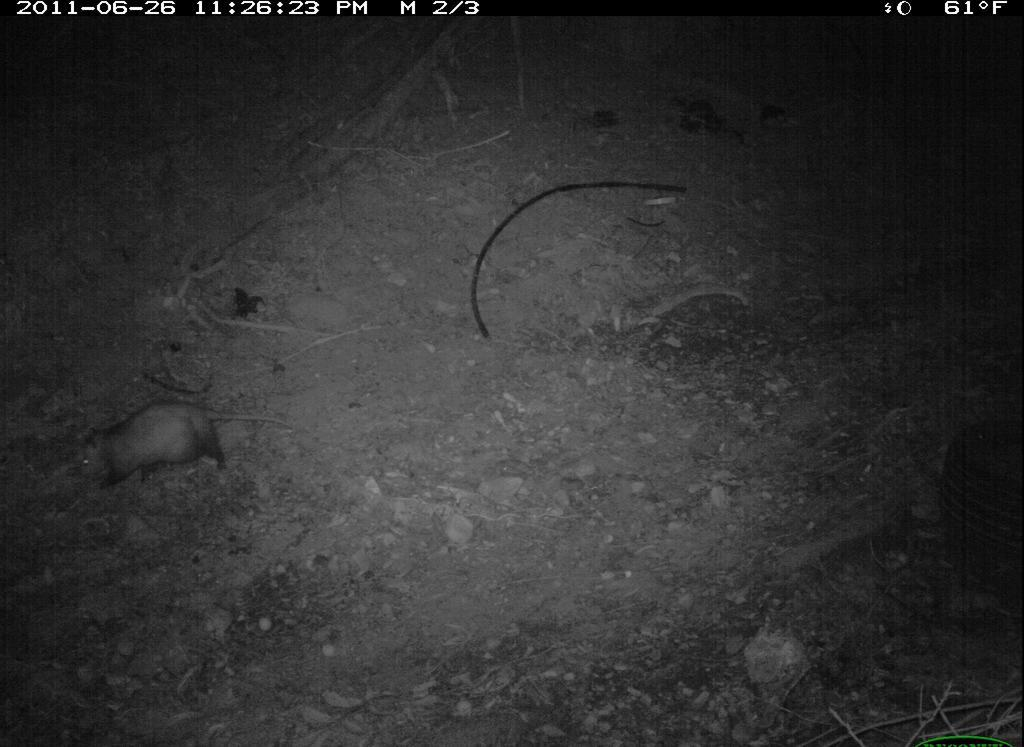opossum: (66, 399, 304, 504)
